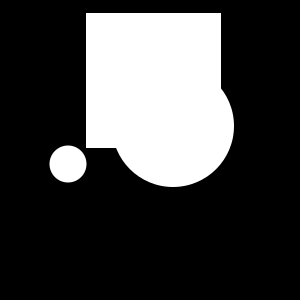circle: (86, 13, 221, 148)
rectangle: (112, 65, 234, 187), (49, 146, 86, 182)
triangle: (116, 40, 195, 119)
